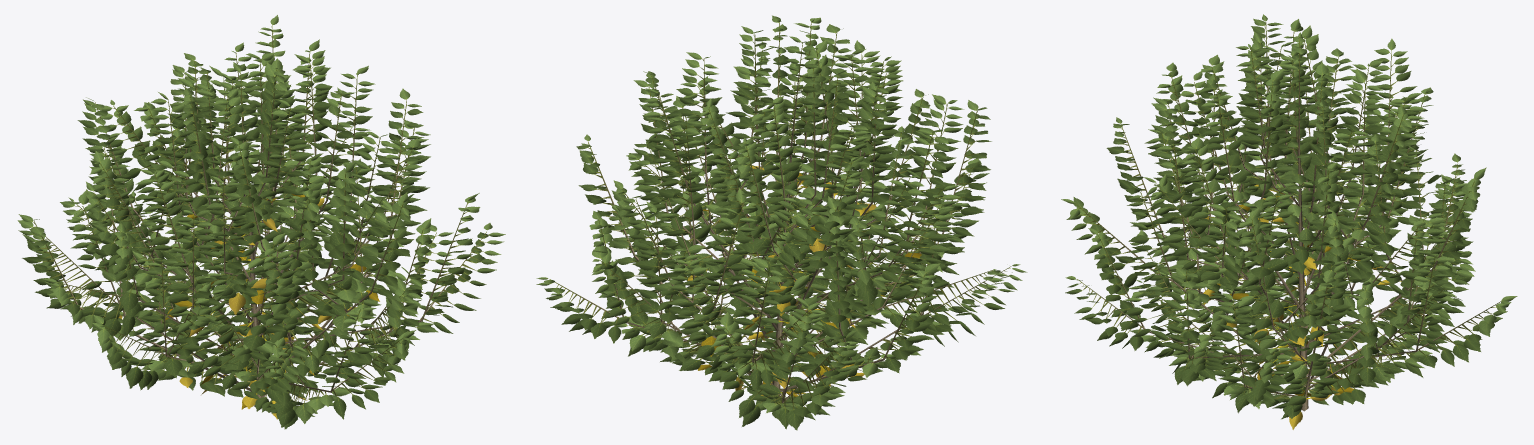
File: Hedera helix 'Erecta' HD_Wild mat 50_LOD4.fbx
3 views of the same model, side by side, from view 1: azimuth 30°, elevation 25°; view 2: azimuth 150°, elevation 25°; view 3: azimuth 270°, elevation 25° (orthographic). The views are drawn at different scales.
Visible parts, largest first — view 1: Hedera_helix__Erecta__HD; view 2: Hedera_helix__Erecta__HD; view 3: Hedera_helix__Erecta__HD.
Part boxes in pixels (x1,y1,x2,y2): Hedera_helix__Erecta__HD: (17,15,505,429); Hedera_helix__Erecta__HD: (536,15,1027,430); Hedera_helix__Erecta__HD: (1061,14,1517,429).
Bounding box in the file's own units: 0.9445 × 0.7911 × 0.9024.
10 materials, 10 textured.
